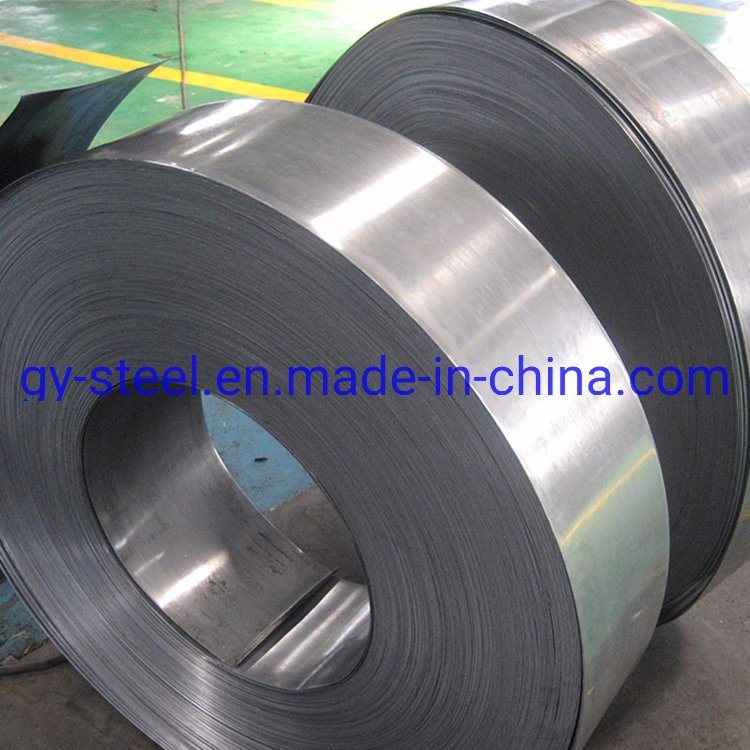steel-coil: (5, 16, 741, 649)
